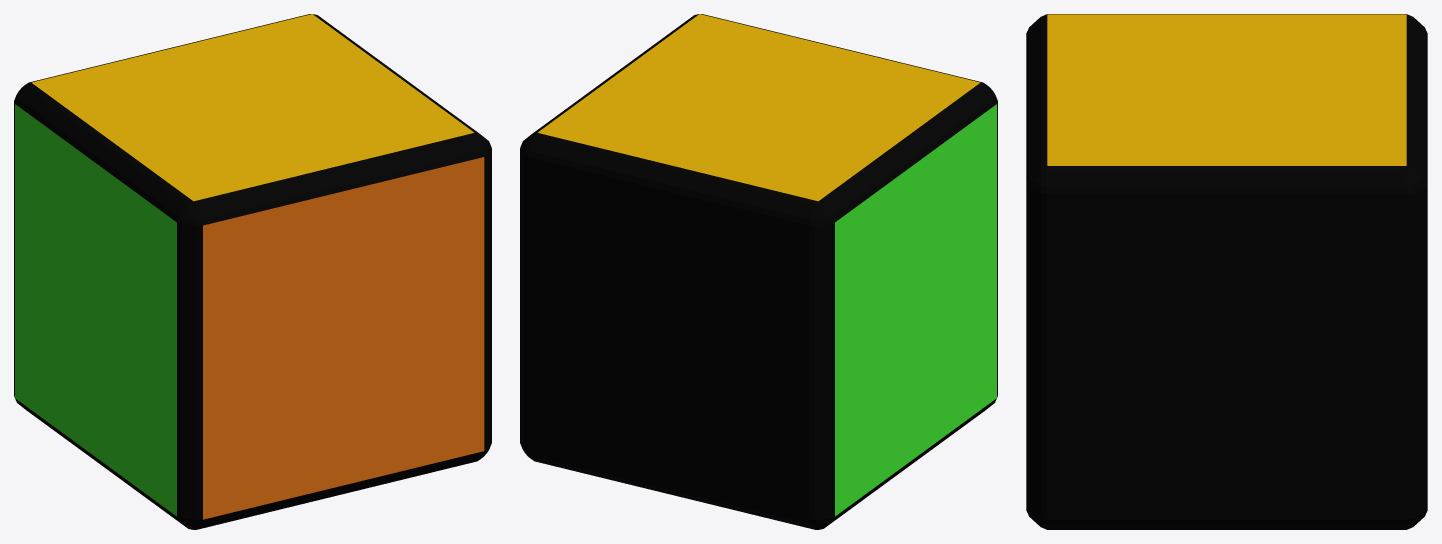
File: OGY.glb
3 views of the same model, side by side, from view 1: azimuth 30°, elevation 25°; view 2: azimuth 150°, elevation 25°; view 3: azimuth 270°, elevation 25° (orthographic). The views are drawn at different scales.
Visible parts, largest first — view 1: Cube; view 2: Cube; view 3: Cube.
Part boxes in pixels (x1,y1,x2,y2): Cube: (14,14,491,529); Cube: (520,14,997,529); Cube: (1026,14,1427,529).
Size of the model in its own units: 2 by 2 by 2.
